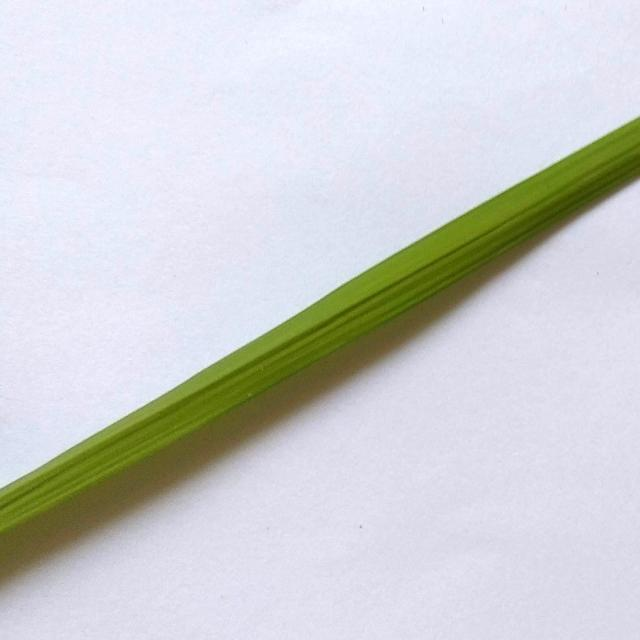healthy: (2, 106, 640, 556)
